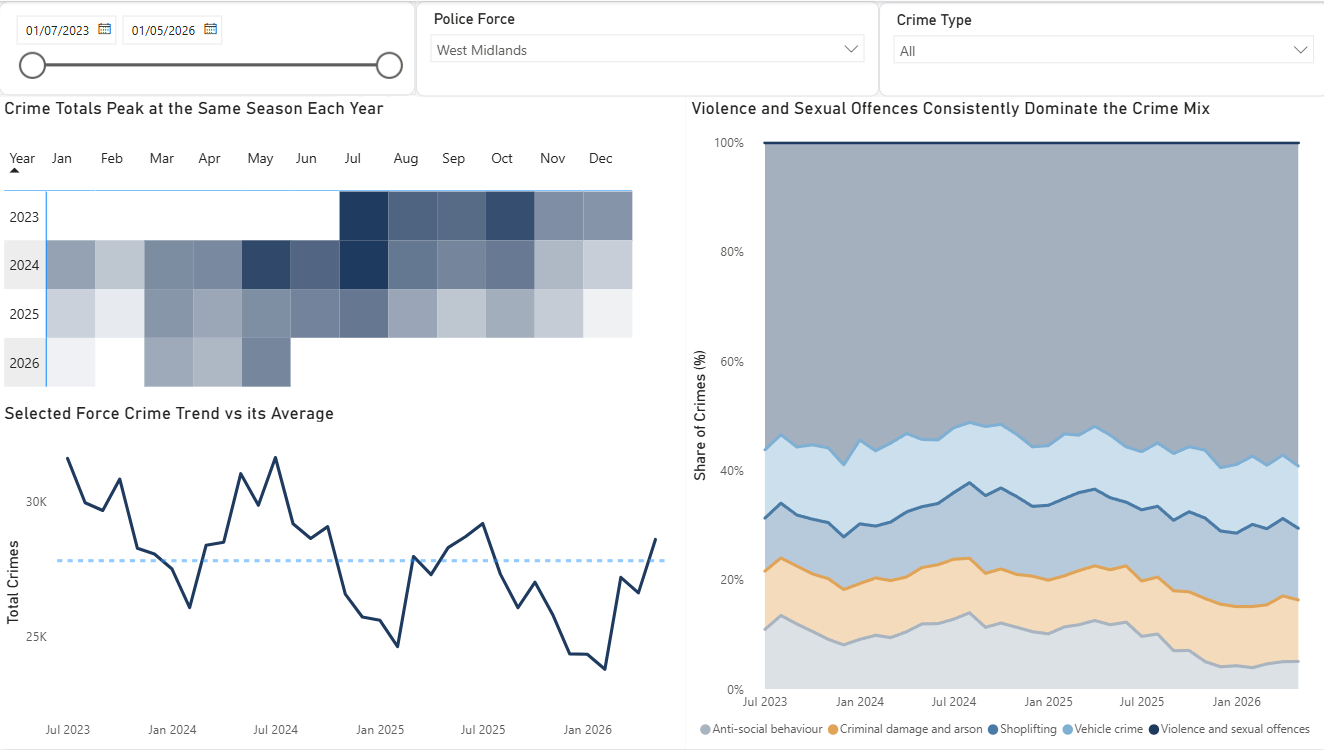

Layout of this report page (visuals, bound fields, positions):
{"tool":"powerbi","page":{"name":"Force Deep Dive","canvas":[1280,720],"ordinal":1},"visuals":[{"type":"slicer","fields":{"Values":["reporting_dataset_final.month"]},"box":[0,0,401.4,91],"z":0},{"type":"slicer","fields":{"Values":["reporting_dataset_final.police_force_name"]},"box":[401.4,0,445.9,92],"z":1000},{"type":"slicer","fields":{"Values":["reporting_dataset_final.crime_type"]},"box":[847.3,1,432.7,91],"z":2000},{"type":"lineChart","title":"Selected Force Crime Trend vs its Average","fields":{"Y":["reporting_dataset_final.Total Crimes"],"Category":["reporting_dataset_final.month"]},"box":[0,386.2,661.2,333.8],"z":3000},{"type":"hundredPercentStackedAreaChart","title":"Violence and Sexual Offences Consistently Dominate the Crime Mix","fields":{"Category":["reporting_dataset_final.month"],"Y":["reporting_dataset_final.Total Crimes"],"Series":["reporting_dataset_final.crime_type"]},"box":[661.2,92.5,618.8,627.5],"z":4000},{"type":"pivotTable","title":"Crime Totals Peak at the Same Season Each Year","fields":{"Rows":["reporting_dataset_final.year"],"Columns":["reporting_dataset_final.Month Name"],"Values":["reporting_dataset_final.Total Crimes"]},"box":[0,92.5,661.2,293.8],"z":5000}]}

Visuals, with their boxes in screenshot pixels (x1, y1, x2, y2), scaled from the page's 1280x720 canvas onto the 1324x750 screenshot:
slicer - reporting_dataset_final.month: l=0, t=0, r=415, b=95
slicer - reporting_dataset_final.police_force_name: l=415, t=0, r=876, b=96
slicer - reporting_dataset_final.crime_type: l=876, t=1, r=1323, b=96
"Selected Force Crime Trend vs its Average" lineChart: l=0, t=402, r=684, b=749
"Violence and Sexual Offences Consistently Dominate the Crime Mix" hundredPercentStackedAreaChart: l=684, t=96, r=1323, b=749
"Crime Totals Peak at the Same Season Each Year" pivotTable: l=0, t=96, r=684, b=402
